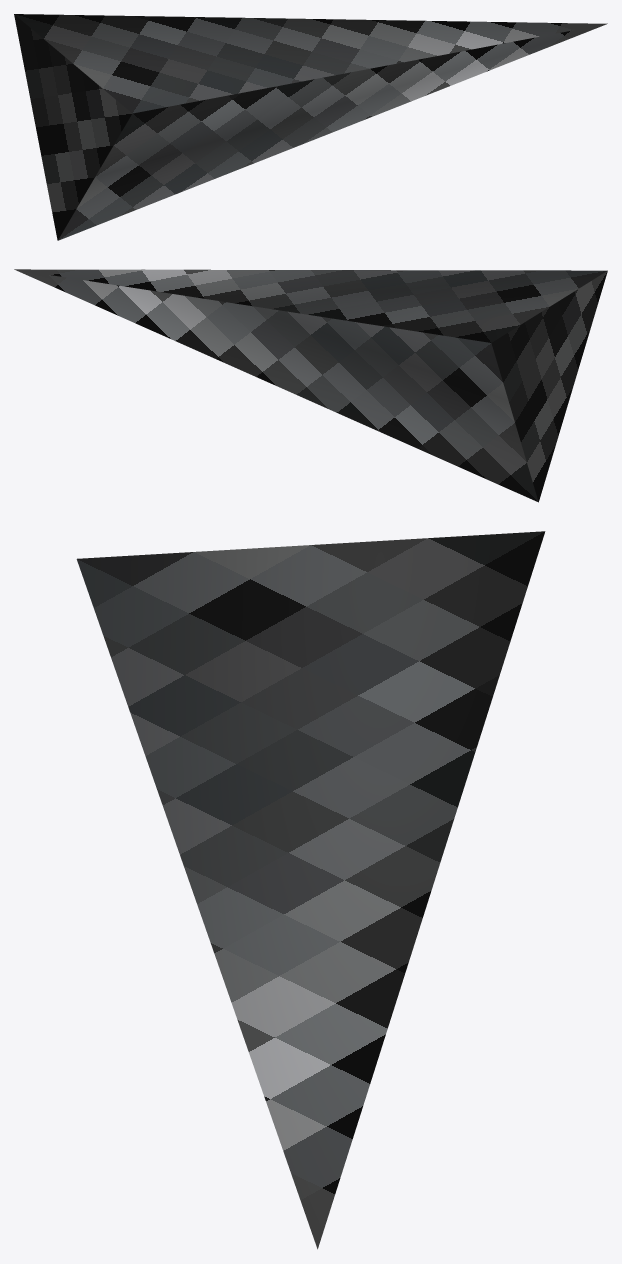
File: nail.glb
3 views of the same model, one above another, from view 1: azimuth 30°, elevation 25°; view 2: azimuth 150°, elevation 25°; view 3: azimuth 270°, elevation 25° (orthographic). The views are drawn at different scales.
Parts seen in each view (by area): view 1: nail; view 2: nail; view 3: nail.
Part boxes in pixels (box(x1,y1,x2,y2)): nail: box(14, 14, 607, 240); nail: box(14, 269, 607, 502); nail: box(76, 531, 545, 1249).
Bounding box in the file's own units: 8.32 × 2.85 × 3.15.
1 material, 1 textured.
